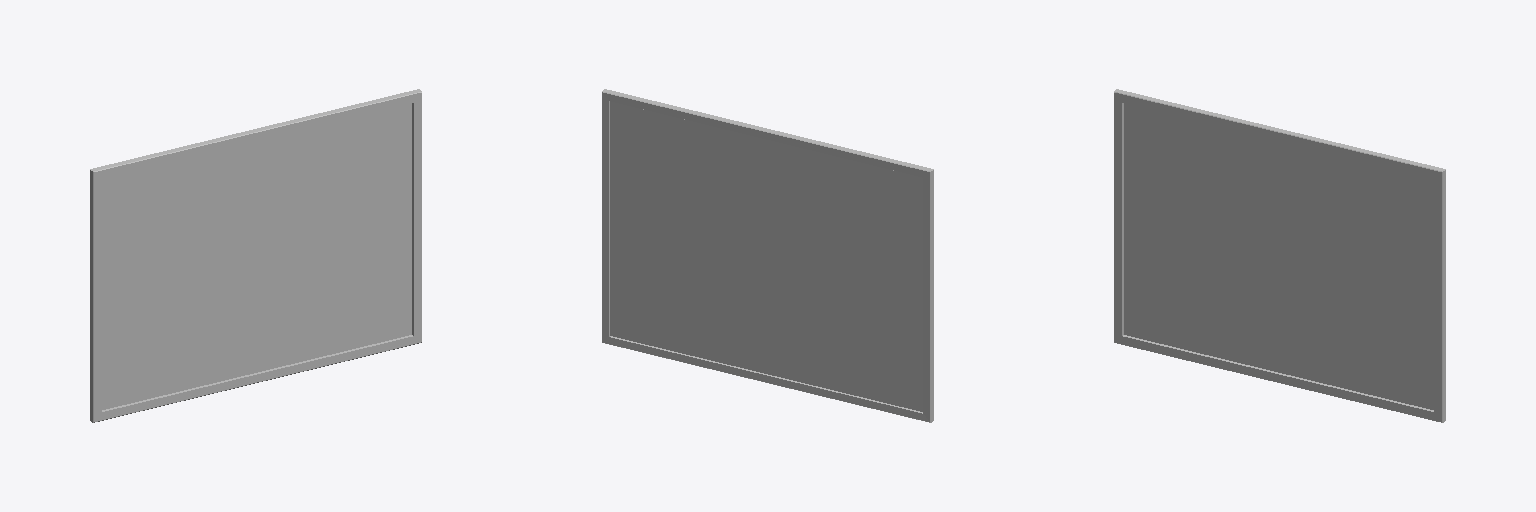
The model's file is B0_Landscape.obj.
3 renders of one model, left to right at view 1: azimuth 30°, elevation 25°; view 2: azimuth 150°, elevation 25°; view 3: azimuth 330°, elevation 25°, orthographic.
Parts seen in each view (by area): view 1: B0_Landscape.obj; view 2: B0_Landscape.obj; view 3: B0_Landscape.obj.
Part boxes in pixels (x1,y1,x2,y2): B0_Landscape.obj: (90, 89, 421, 422); B0_Landscape.obj: (602, 89, 933, 422); B0_Landscape.obj: (1114, 89, 1445, 422).
Size of the model in its own units: 1.48 by 1.08 by 0.0298.